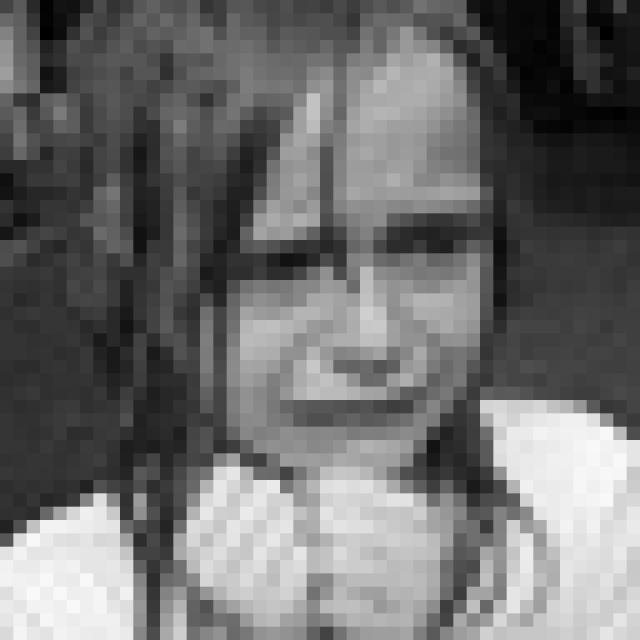fear: (222, 182, 480, 443)
